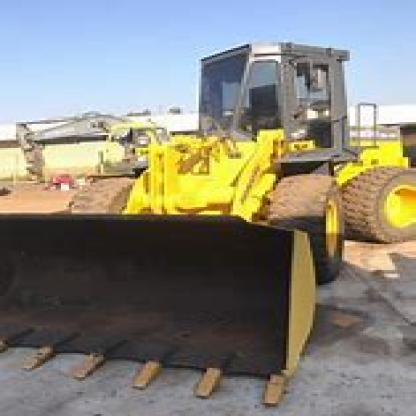bull_dozer/loader/grader: (0, 22, 413, 392)
